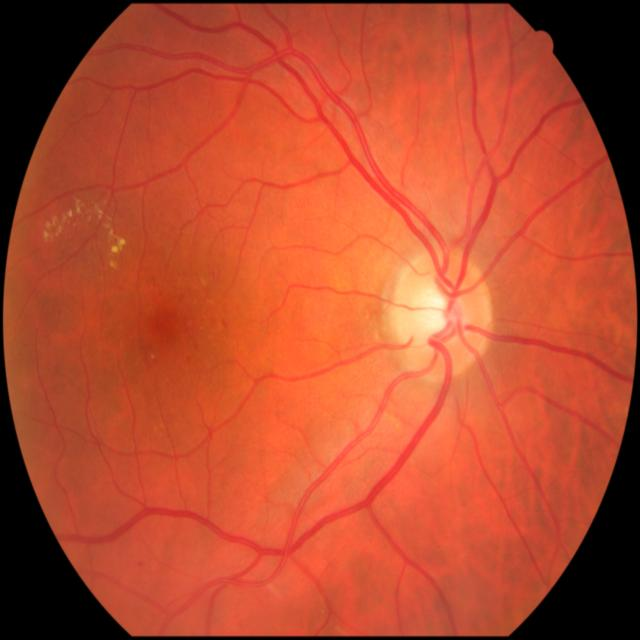OC: (416, 287, 448, 333)
OD: (392, 252, 492, 382)
